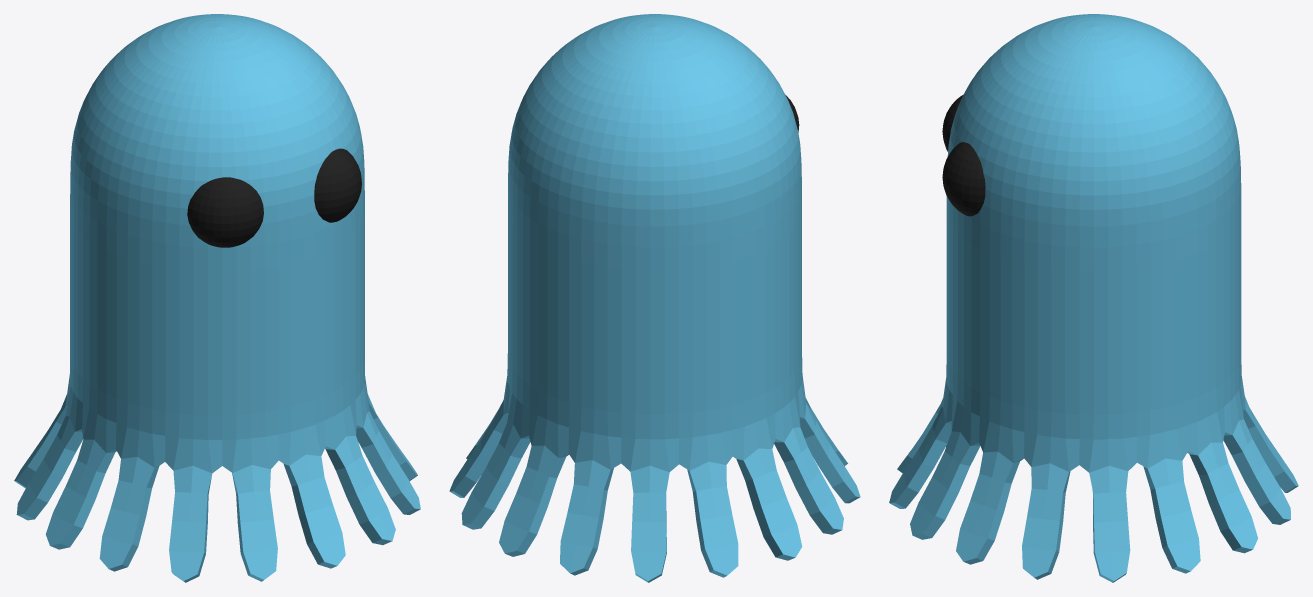
Rendered from GhostBlocker.fbx.
The picture shows the model from 3 angles, left to right: view 1: azimuth 30°, elevation 25°; view 2: azimuth 150°, elevation 25°; view 3: azimuth 270°, elevation 25°; orthographic projection.
Parts seen in each view (by area): view 1: Sphere, Sphere.001, Sphere.002; view 2: Sphere; view 3: Sphere, Sphere.002.
Part boxes in pixels (x1=…): Sphere: x1=14, y1=14, x2=420, y2=582; Sphere.001: x1=187, y1=177, x2=263, y2=247; Sphere.002: x1=314, y1=148, x2=361, y2=222; Sphere: x1=449, y1=14, x2=860, y2=582; Sphere: x1=889, y1=14, x2=1298, y2=582; Sphere.002: x1=942, y1=142, x2=985, y2=216.
Bounding box in the file's own units: 383 × 489 × 383.
